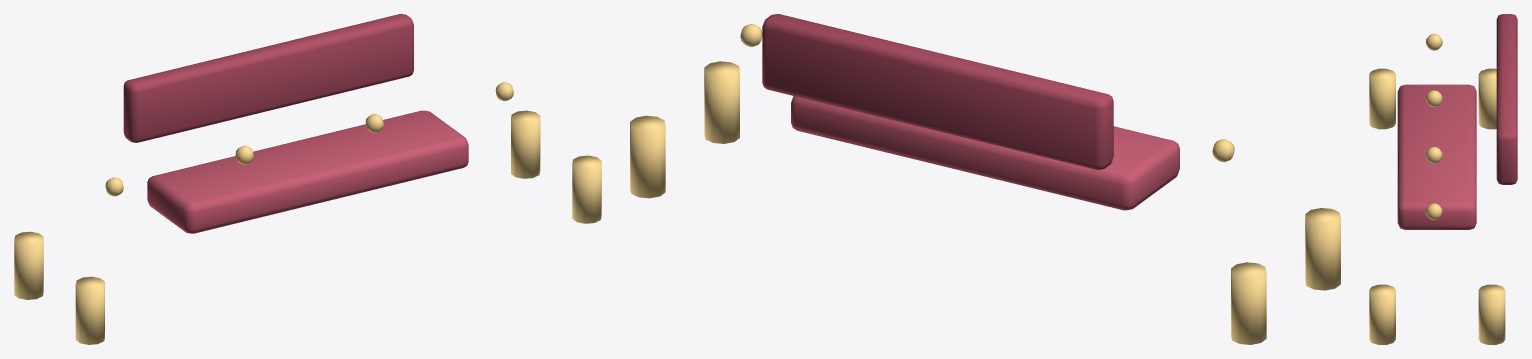
The model's file is opera_bench.glb.
3 renders of one model, left to right at view 1: azimuth 30°, elevation 25°; view 2: azimuth 150°, elevation 25°; view 3: azimuth 270°, elevation 25°, orthographic. The views are drawn at different scales.
Visible parts, largest first — view 1: seat, back, foot.002, foot.003, foot, foot.001; view 2: back, seat, foot.002, foot, foot.001, foot.003; view 3: seat, back, foot.003, foot, foot.002, foot.001, tuft.002, tuft.003, tuft, tuft.001.
Boxes of the visible parts, x1,y1,x2,y2 form: seat: (147,110,468,233); back: (123,14,413,142); foot.002: (572,155,601,223); foot.003: (511,110,540,178); foot: (75,276,104,344); foot.001: (14,231,43,299); back: (762,14,1113,169); seat: (791,96,1179,210); foot.002: (704,61,739,143); foot: (1305,208,1340,290); foot.001: (1231,262,1266,344); foot.003: (630,115,665,198); seat: (1397,84,1476,229); back: (1496,14,1517,184); foot.003: (1478,284,1505,344); foot: (1369,68,1395,129); foot.002: (1369,284,1395,344); foot.001: (1478,68,1496,129); tuft.002: (1425,146,1442,163); tuft.003: (1425,203,1442,220); tuft: (1425,33,1442,50); tuft.001: (1425,90,1442,107).
Size of the model in its own units: 8.82 by 2.88 by 2.44.
